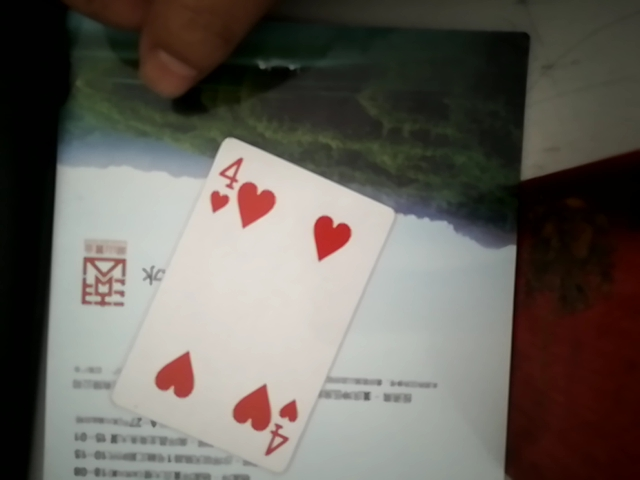hx 4: (87, 127, 387, 473)
